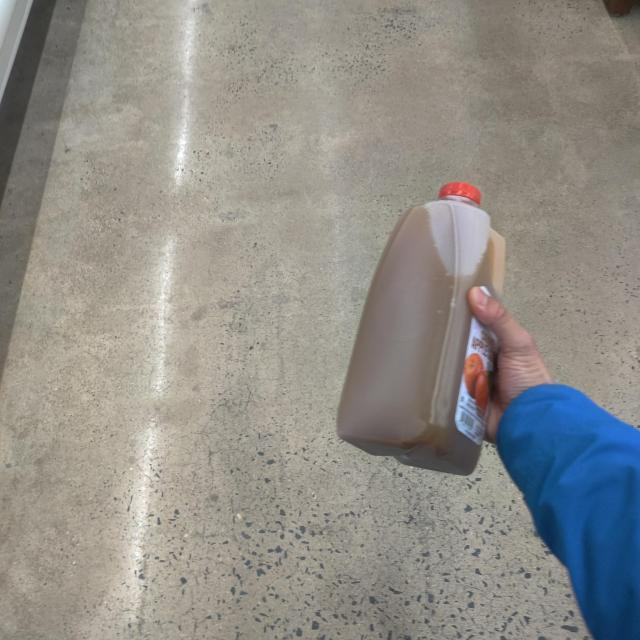Juice: (332, 167, 524, 487)
